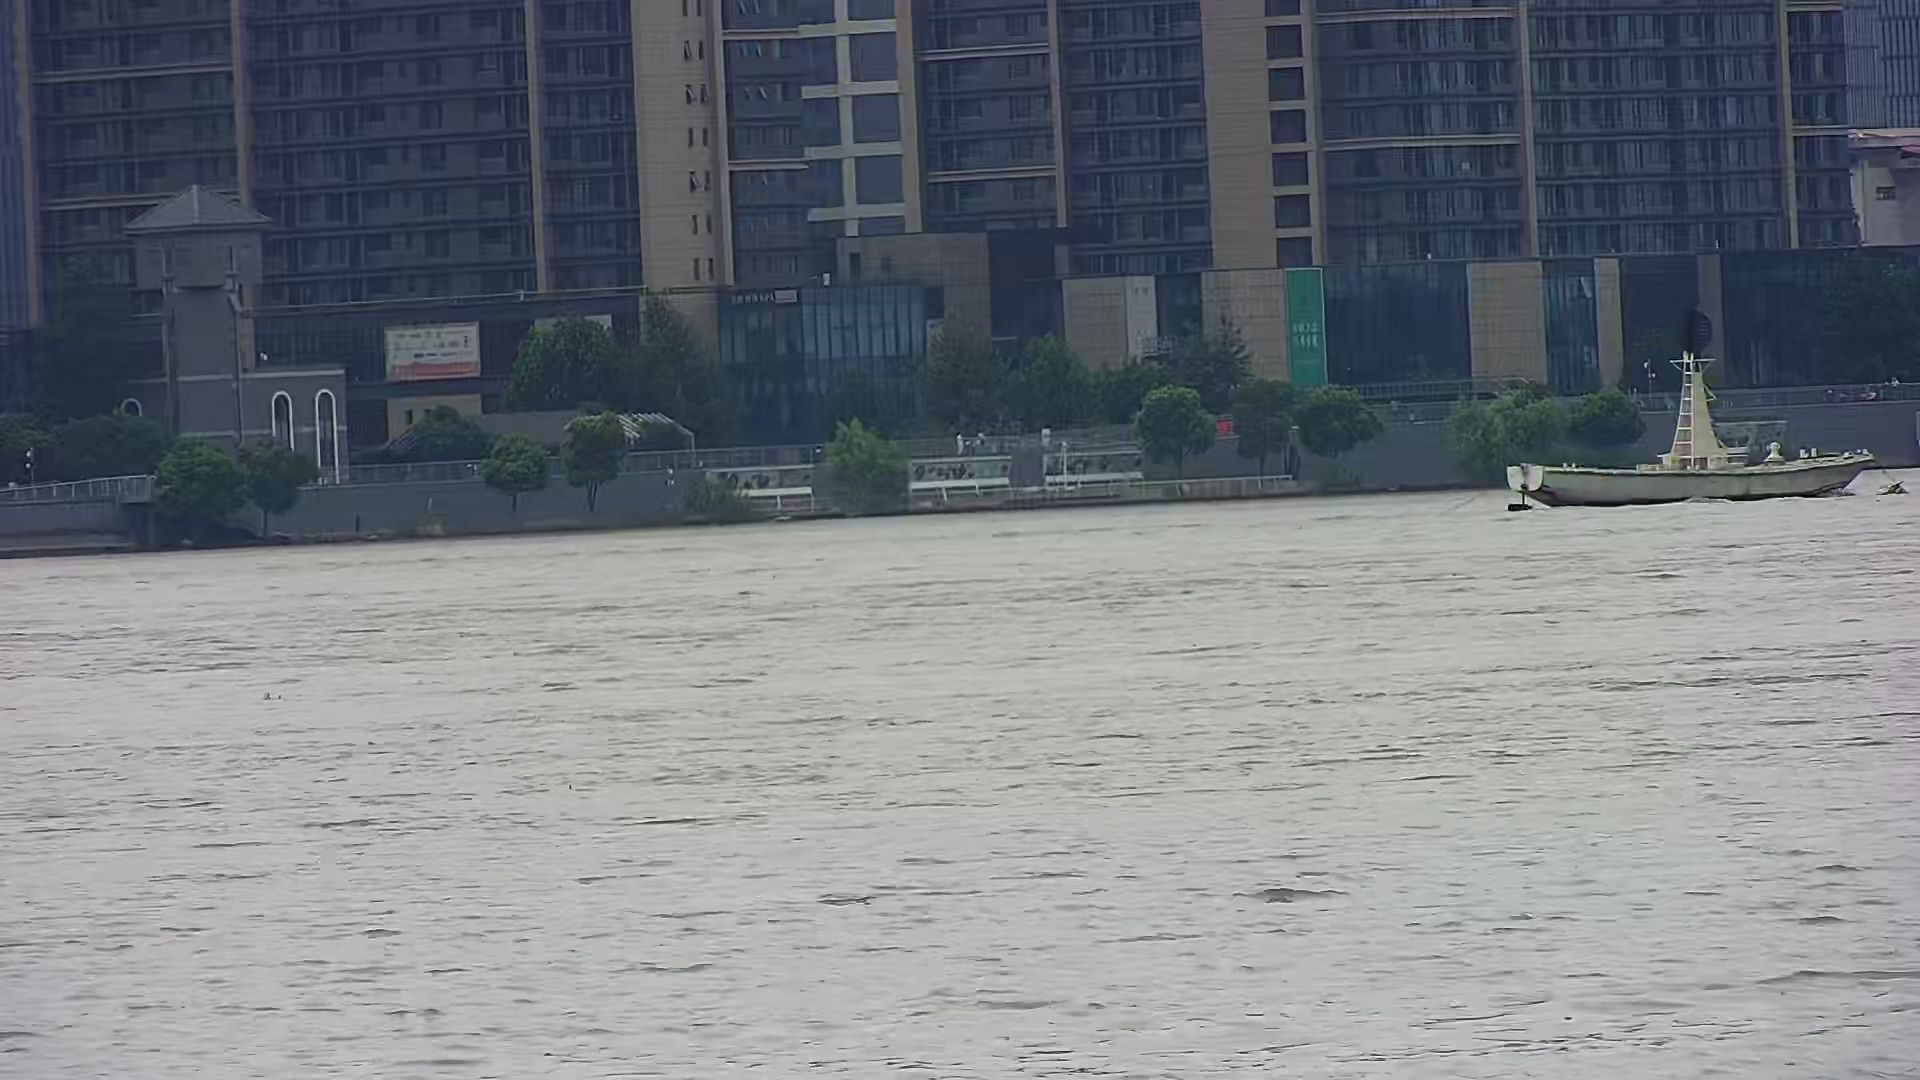boat: (1502, 310, 1878, 504)
